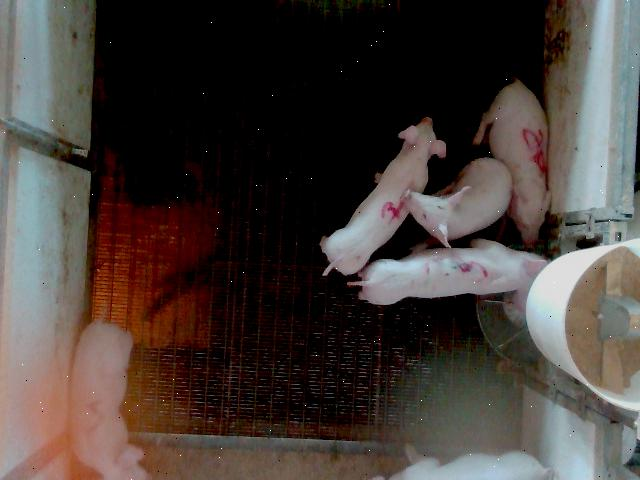pig-2: (70, 321, 149, 479)
pig-3: (350, 239, 546, 305)
pig-4: (321, 118, 446, 275)
pig-5: (472, 78, 551, 247)
